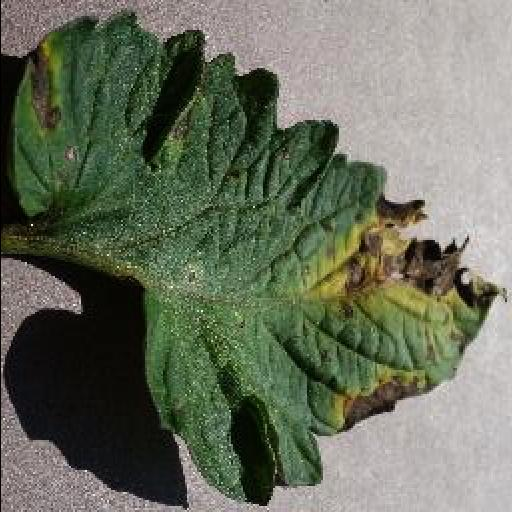disease_tomato: (6, 16, 496, 504)
